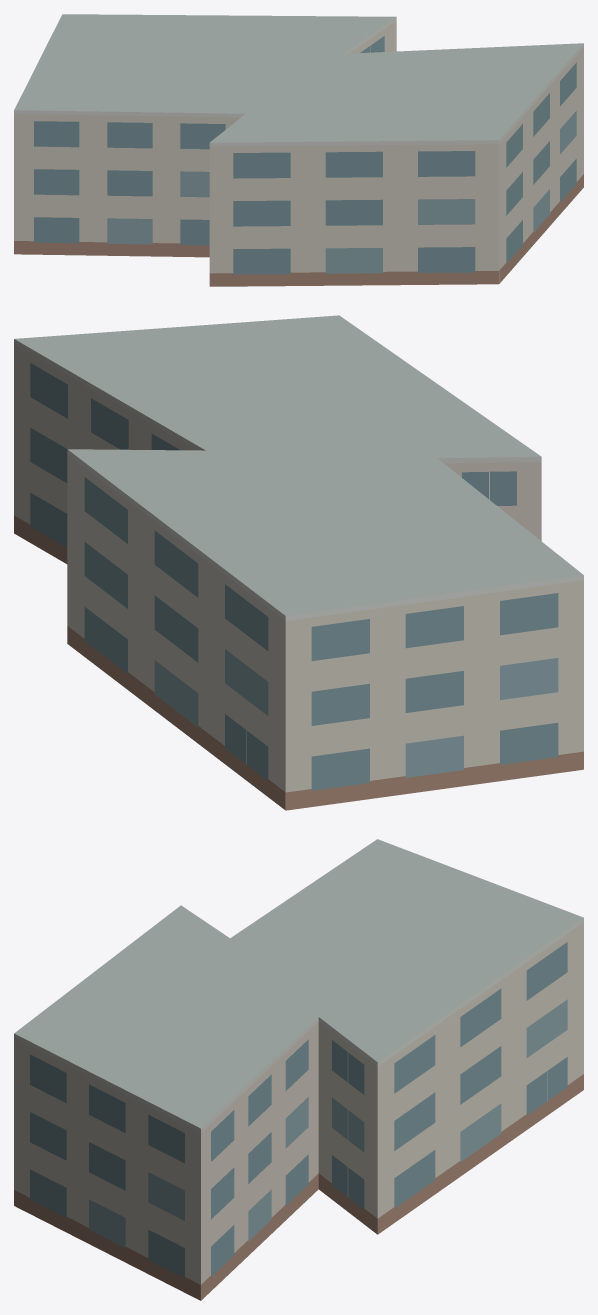
File: survey-upis-32473842.glb
3 renders of one model, top to bottom at view 1: azimuth 30°, elevation 25°; view 2: azimuth 150°, elevation 25°; view 3: azimuth 270°, elevation 25°, orthographic. The views are drawn at different scales.
Visible parts, largest first — view 1: survey-upis-32473842.tmp; view 2: survey-upis-32473842.tmp; view 3: survey-upis-32473842.tmp.
Boxes of the visible parts, bbox=[...] form: survey-upis-32473842.tmp: bbox=[14, 14, 583, 286]; survey-upis-32473842.tmp: bbox=[14, 315, 583, 810]; survey-upis-32473842.tmp: bbox=[14, 839, 583, 1300].
Bounding box in the file's own units: 32.96 × 9.15 × 27.42.
